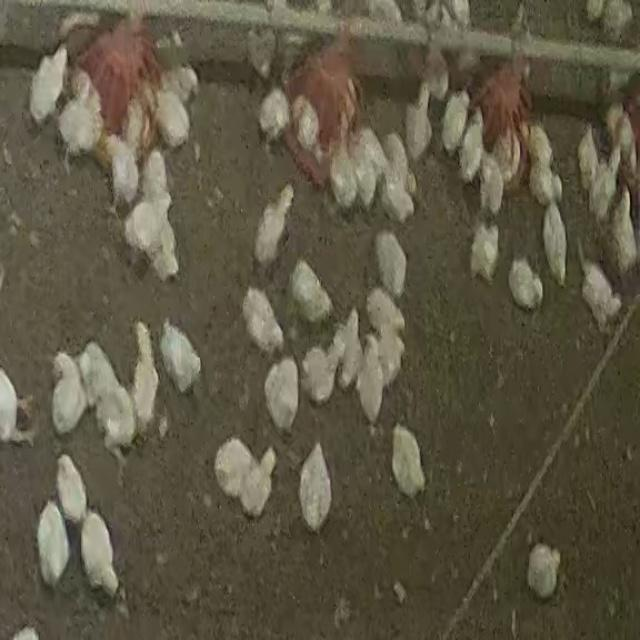chicken: (122, 191, 180, 283), (213, 436, 277, 519), (55, 84, 104, 166), (78, 508, 121, 598), (92, 380, 138, 460), (130, 321, 162, 435), (578, 254, 624, 330), (79, 341, 125, 416), (252, 182, 294, 262), (28, 44, 68, 128), (297, 441, 334, 531), (36, 499, 72, 589), (51, 351, 88, 438), (159, 321, 202, 394), (290, 261, 338, 323), (100, 137, 140, 211), (243, 288, 289, 352), (390, 423, 428, 500), (150, 82, 192, 151), (264, 358, 301, 432), (300, 342, 341, 408), (356, 336, 386, 424), (374, 318, 407, 398), (608, 186, 637, 277), (55, 451, 89, 527), (332, 309, 362, 391), (364, 286, 405, 345), (348, 134, 379, 211), (591, 138, 620, 220), (404, 79, 434, 157), (541, 198, 568, 284), (490, 120, 522, 192), (376, 228, 409, 296), (329, 144, 362, 212), (456, 108, 486, 182), (507, 256, 545, 310), (526, 543, 562, 600), (469, 220, 502, 282), (258, 84, 292, 144), (440, 89, 471, 154), (141, 148, 171, 207), (294, 95, 323, 153), (478, 152, 505, 214), (577, 126, 600, 195), (525, 126, 562, 167), (531, 164, 565, 200)
